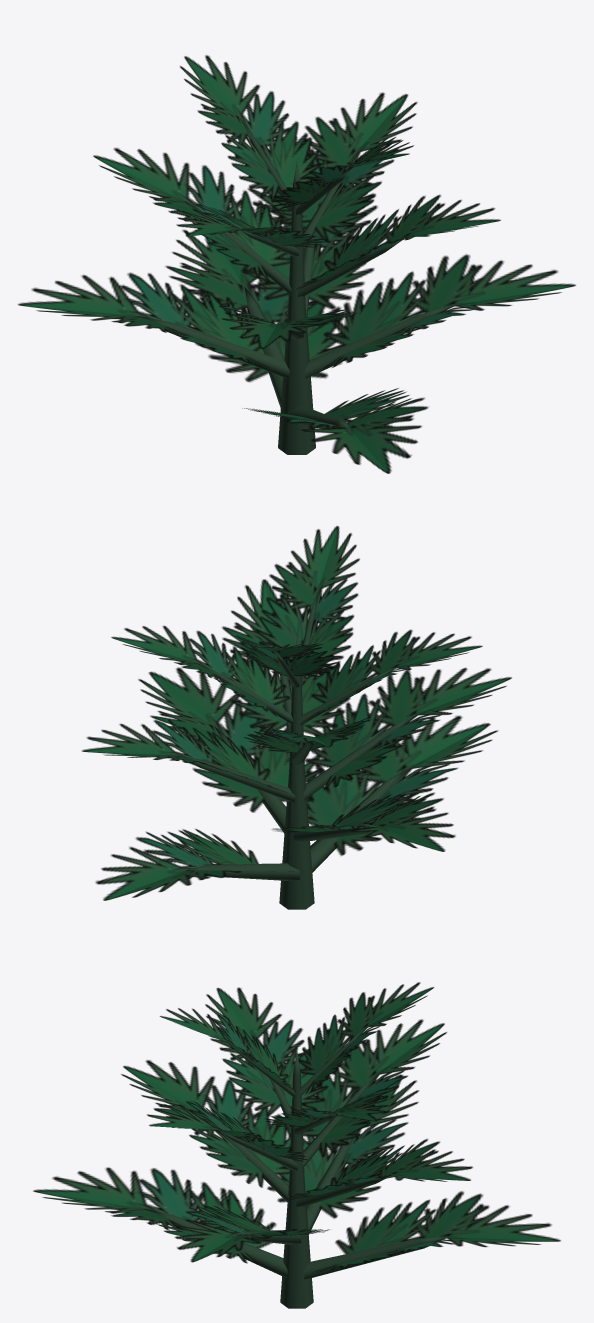
Rendered from eldenthorn.glb.
The picture shows the model from 3 angles, top to bottom: view 1: azimuth 30°, elevation 25°; view 2: azimuth 150°, elevation 25°; view 3: azimuth 270°, elevation 25°; orthographic projection. The views are drawn at different scales.
Visible parts, largest first — view 1: leaf, bark; view 2: leaf, bark; view 3: leaf, bark.
Boxes of the visible parts, box(x1,y1,x2,y2) form: leaf: box(18, 55, 575, 473); bark: box(140, 117, 453, 454); leaf: box(81, 526, 511, 900); bark: box(179, 590, 415, 909); leaf: box(33, 982, 560, 1272); bark: box(146, 1028, 447, 1308).
Bounding box in the file's own units: 1.88 × 1.25 × 2.03.
2 materials, 1 textured.
